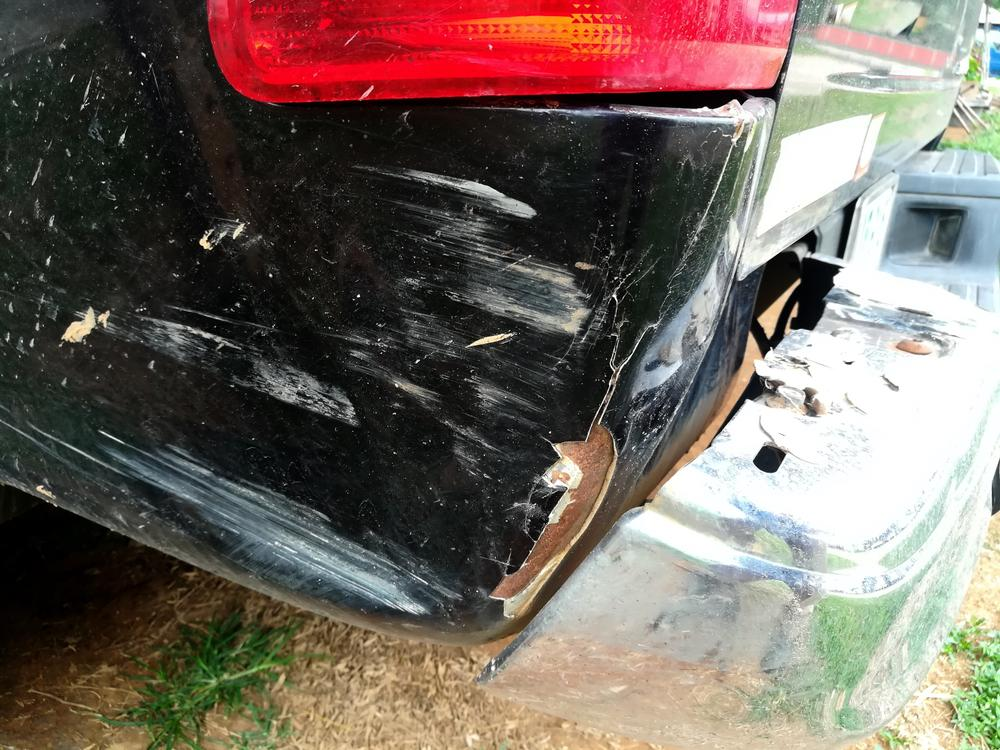crack: (488, 318, 657, 617)
scratch: (44, 152, 596, 482), (0, 411, 463, 619)
